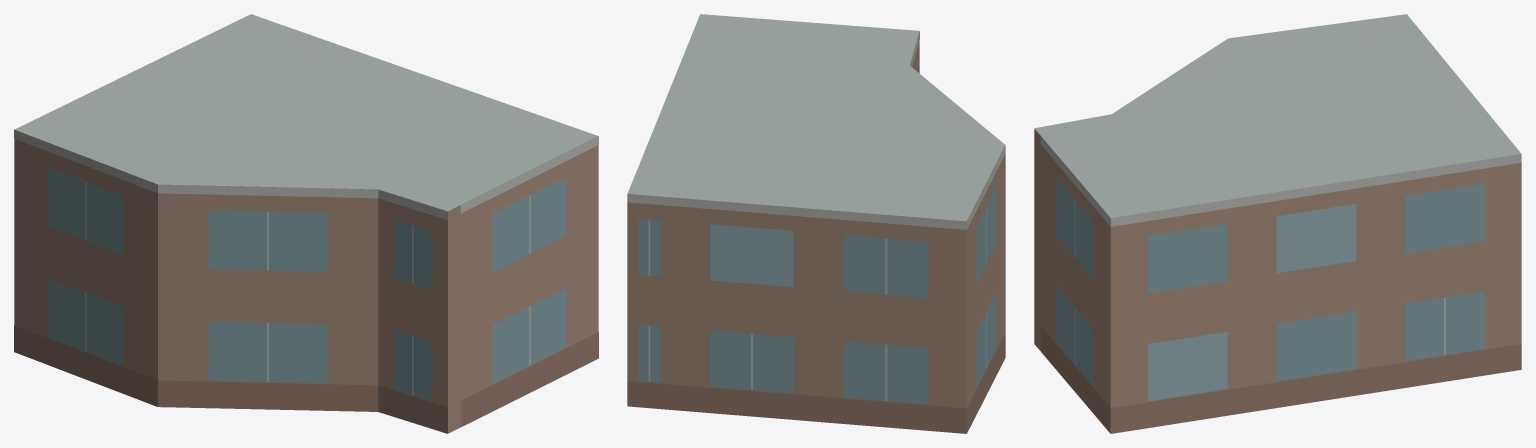
The model's file is survey-upis-32914184.glb.
3 views of the same model, side by side, from view 1: azimuth 30°, elevation 25°; view 2: azimuth 150°, elevation 25°; view 3: azimuth 270°, elevation 25° (orthographic). The views are drawn at different scales.
Visible parts, largest first — view 1: survey-upis-32914184.tmp; view 2: survey-upis-32914184.tmp; view 3: survey-upis-32914184.tmp.
Boxes of the visible parts, x1,y1,x2,y2 form: survey-upis-32914184.tmp: (14,14,598,433); survey-upis-32914184.tmp: (627,14,1005,433); survey-upis-32914184.tmp: (1034,14,1521,433).
Size of the model in its own units: 12.4 by 6.1 by 12.51.
